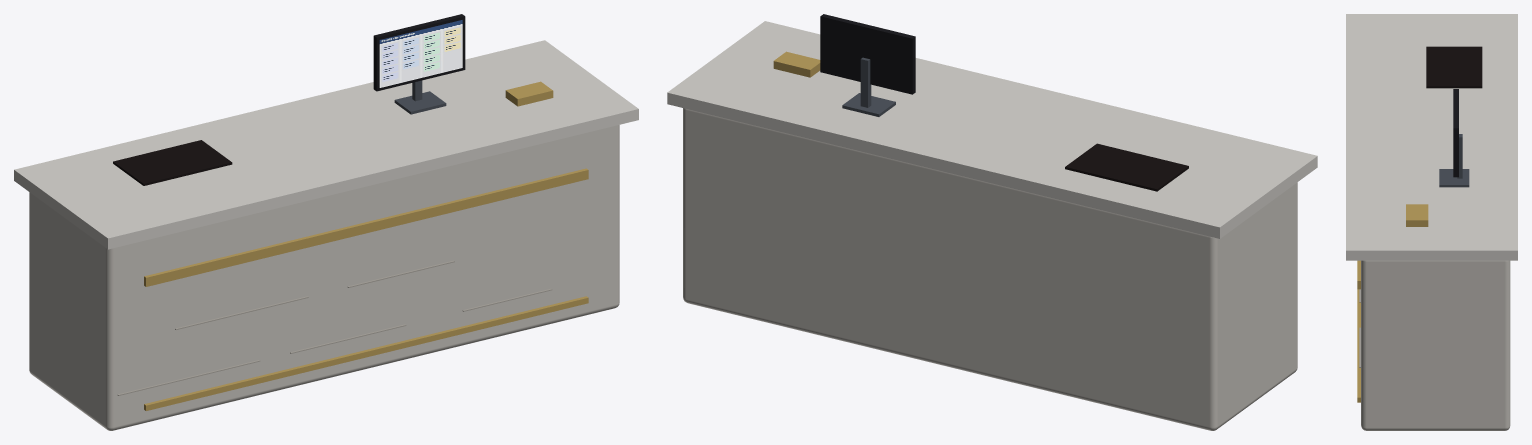
Rendered from recepcao-marmore.glb.
3 renders of one model, left to right at view 1: azimuth 30°, elevation 25°; view 2: azimuth 150°, elevation 25°; view 3: azimuth 270°, elevation 25°, orthographic. The views are drawn at different scales.
Visible parts, largest first — view 1: recepcao-marmore_malha; view 2: recepcao-marmore_malha; view 3: recepcao-marmore_malha.
Part boxes in pixels (x1=…): recepcao-marmore_malha: x1=14, y1=14, x2=638, y2=430; recepcao-marmore_malha: x1=667, y1=14, x2=1317, y2=430; recepcao-marmore_malha: x1=1346, y1=14, x2=1517, y2=430.
Size of the model in its own units: 3 by 1.52 by 0.92.
Materials: 3 (1 with a texture image).
